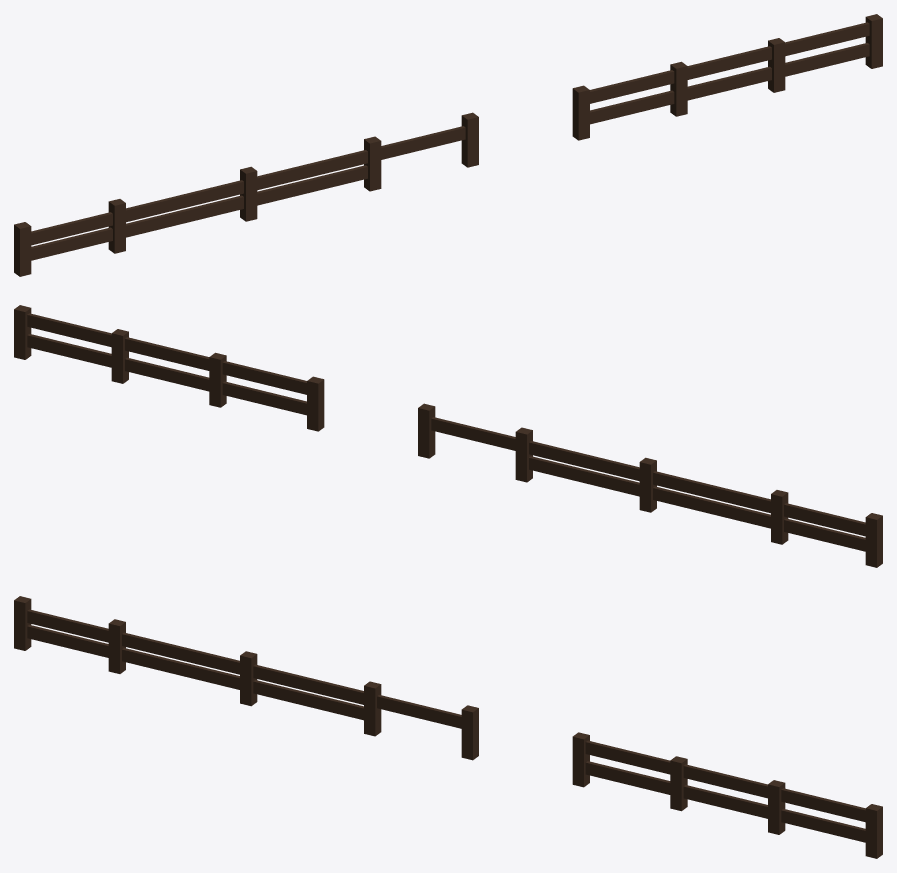
File: fence.fbx
3 renders of one model, top to bottom at view 1: azimuth 30°, elevation 25°; view 2: azimuth 150°, elevation 25°; view 3: azimuth 330°, elevation 25°, orthographic.
Visible parts, largest first — view 1: pCube692; view 2: pCube692; view 3: pCube692.
Part boxes in pixels (left/top/right/bottom): pCube692: left=14, top=14, right=882, bottom=276; pCube692: left=14, top=305, right=882, bottom=567; pCube692: left=14, top=596, right=882, bottom=858.
Bounding box in the file's own units: 44.28 × 2.35 × 0.532.
